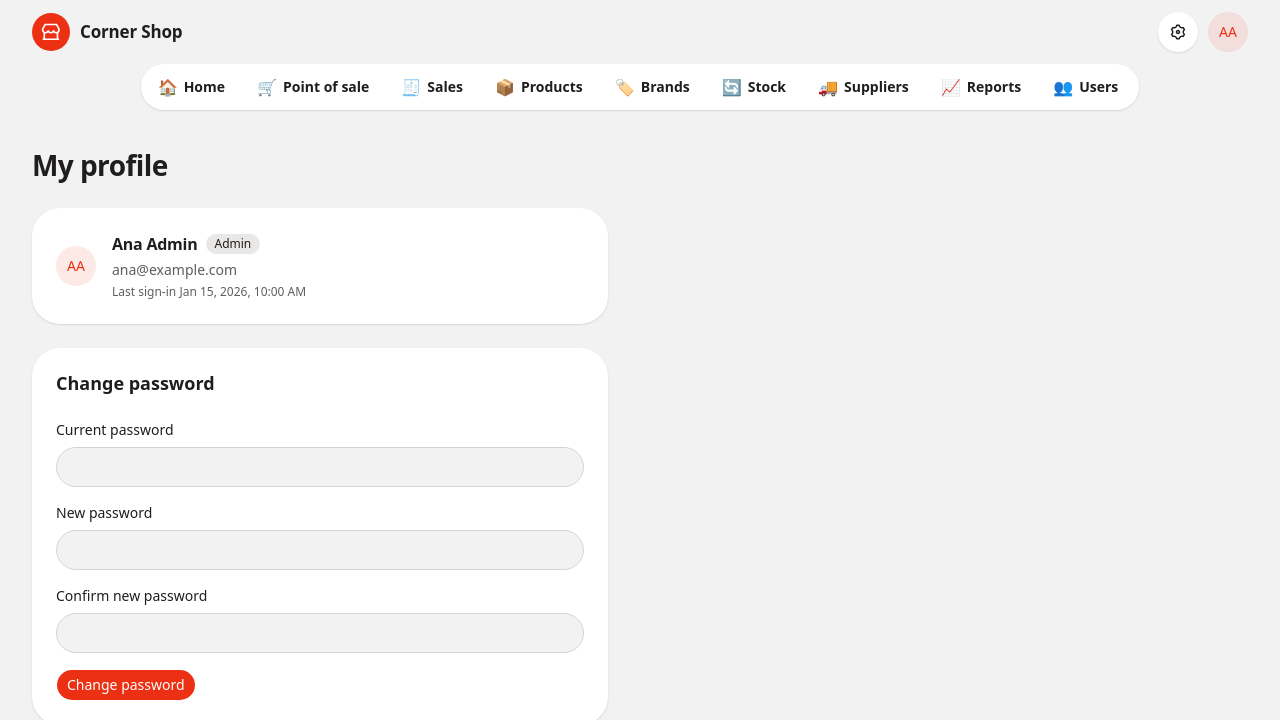
Test case: ProfilePage › changes the password
The image size is (1280, 720).
Type "old-pass" into the password field labelled "Current password" at (320, 467), box [56,447,584,487]
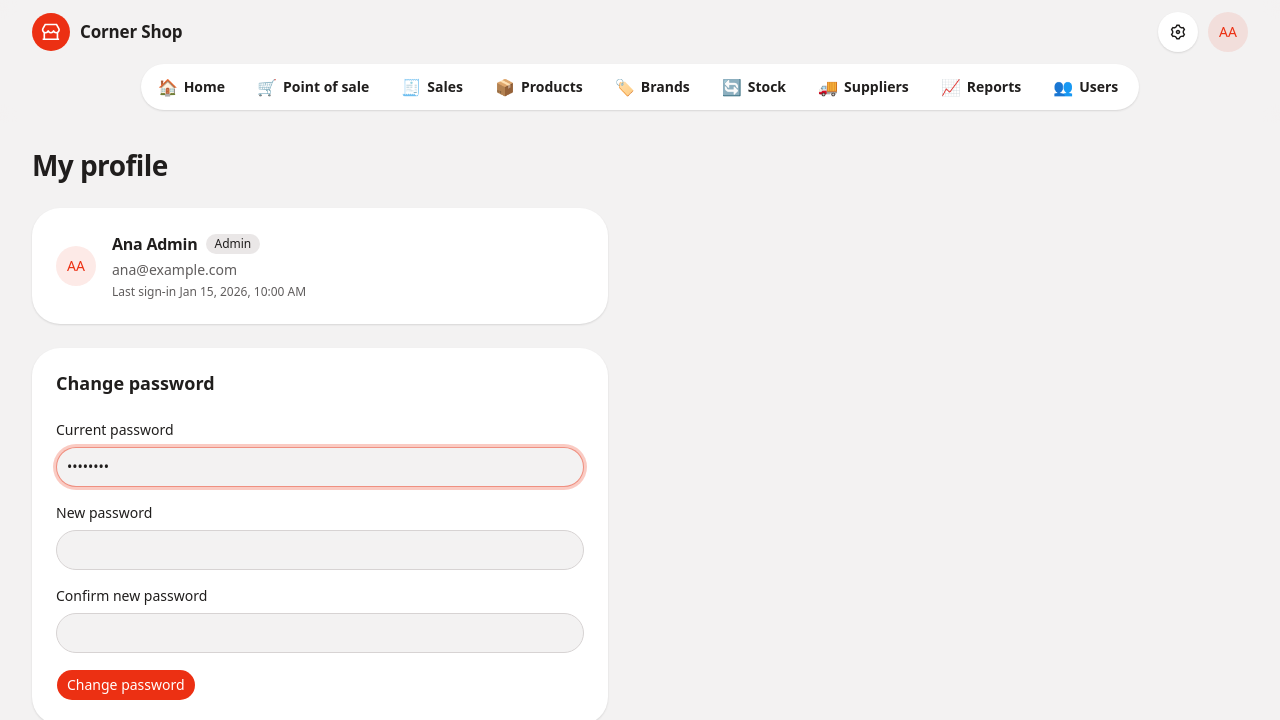
Type "new-password" into the password field labelled "New password" at (320, 550), box [56,530,584,570]
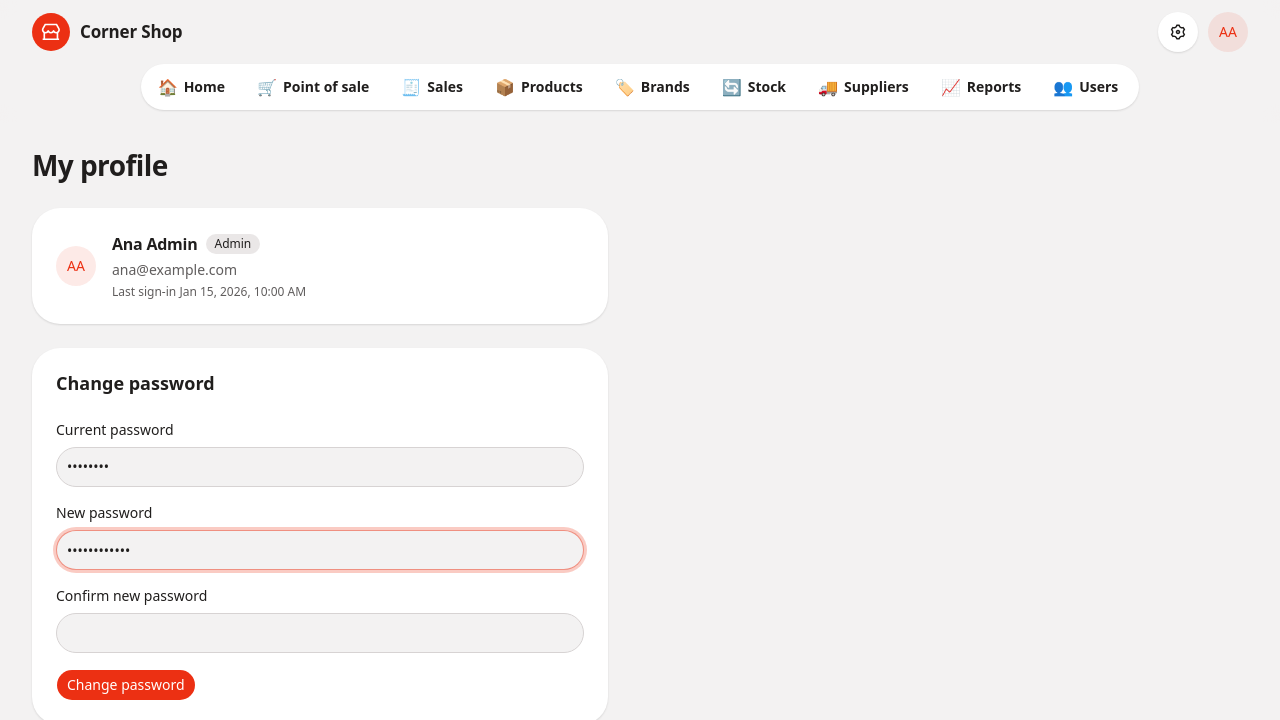
Type "new-password" into the password field labelled "Confirm new password" at (320, 634), box [56,614,584,654]
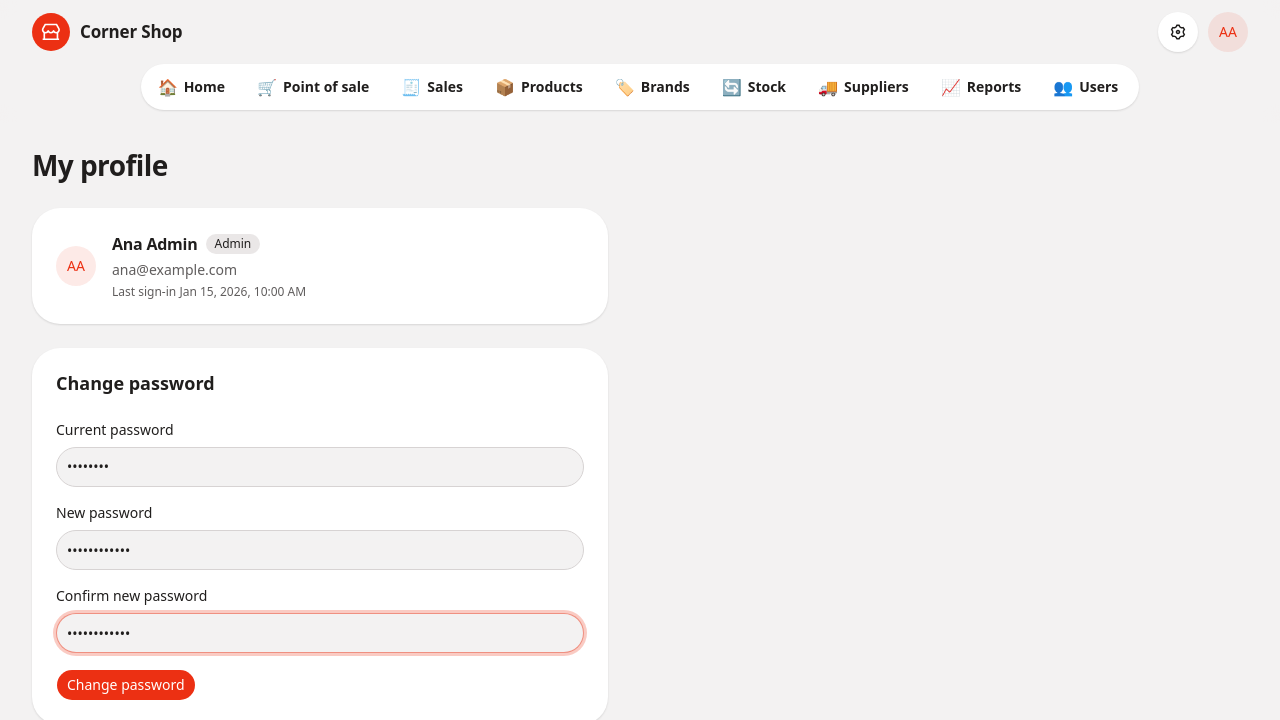
Click the button "Change password" at (126, 686), box [56,670,196,702]
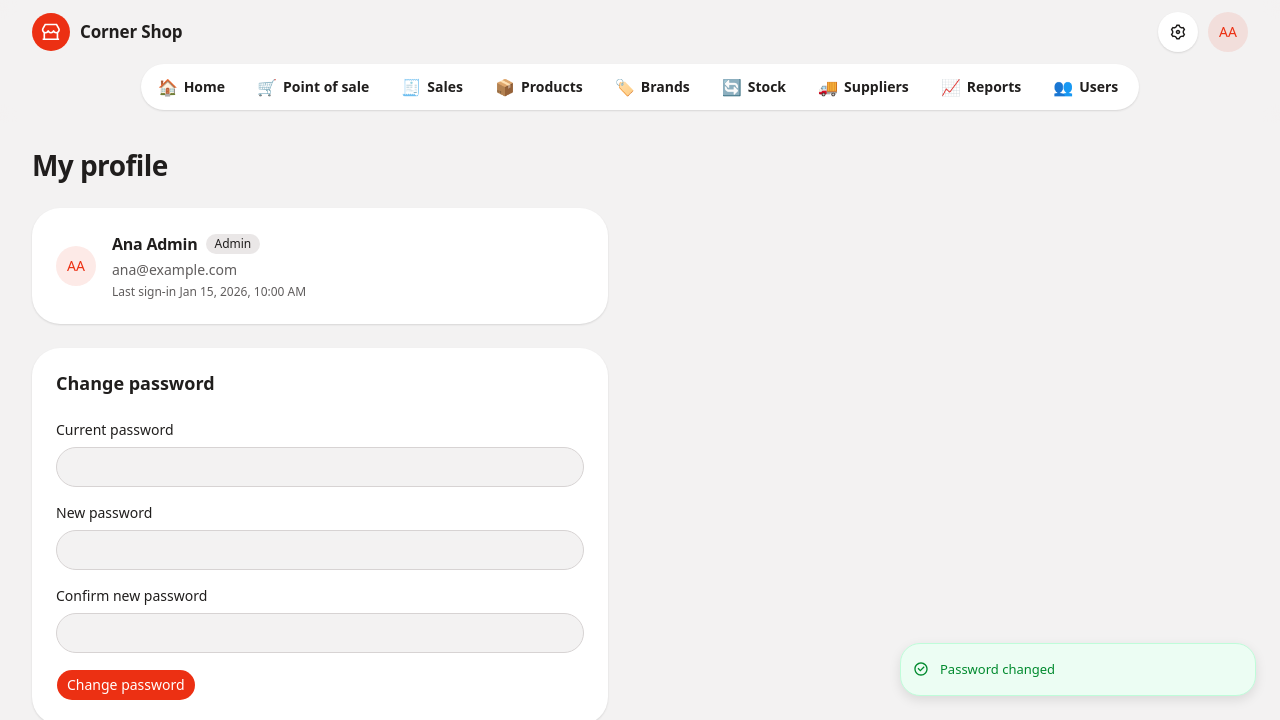
Result: the text "Password changed" is shown at [940,660,1055,679]
Result: the password field labelled "Current password" is empty at [56,447,584,487]
Result: the password field labelled "New password" is empty at [56,530,584,570]
